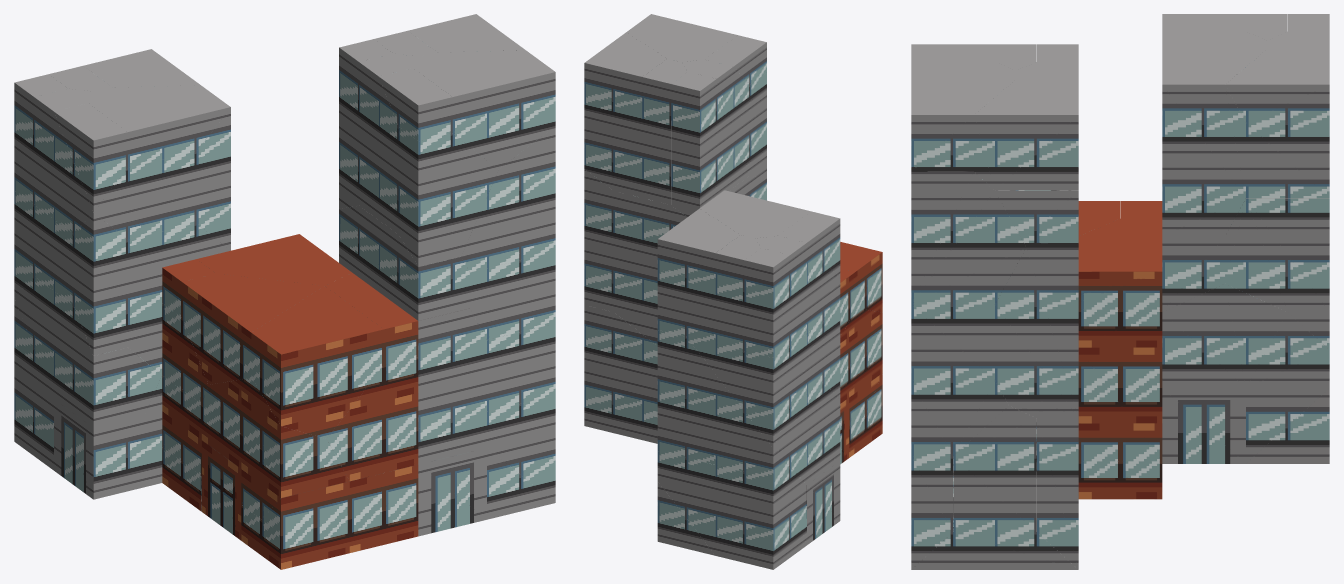
Rendered from Building_Corner 1.fbx.
The picture shows the model from 3 angles, left to right: view 1: azimuth 30°, elevation 25°; view 2: azimuth 150°, elevation 25°; view 3: azimuth 270°, elevation 25°; orthographic projection. The views are drawn at different scales.
Visible parts, largest first — view 1: BuildingCorner.002_cell.009, BuildingCorner_cell.010, BuildingCorner.002_cell.010, BuildingCorner.001_cell.011, BuildingCorner_cell.017, BuildingCorner.002_cell.015, BuildingCorner_cell.009, BuildingCorner_cell.015, BuildingCorner.Door11, BuildingCorner.002_cell.019, BuildingCorner.001_cell.012, BuildingCorner_cell.012 (+33 smaller); view 2: BuildingCorner_cell.003, BuildingCorner_cell.004, BuildingCorner.001_cell, BuildingCorner_cell.008, BuildingCorner.001_cell.014, BuildingCorner.001_cell.017, BuildingCorner.001_cell.009, BuildingCorner_cell.005, BuildingCorner.001_cell.010, BuildingCorner.001_cell.011, BuildingCorner_cell.011, BuildingCorner.001_cell.002 (+22 smaller); view 3: BuildingCorner.001_cell.016, BuildingCorner_cell.006, BuildingCorner_cell.009, BuildingCorner.001_cell.018, BuildingCorner_cell.002, BuildingCorner.001_cell.013, BuildingCorner.002_cell.014, BuildingCorner_cell.001, BuildingCorner_cell.010, BuildingCorner.002_cell.008, BuildingCorner.001_cell.003, BuildingCorner.001_cell.008 (+22 smaller).
Boxes of the visible parts, x1,y1,x2,y2 form: BuildingCorner.002_cell.009: (251,286,383,438); BuildingCorner_cell.010: (413,50,555,169); BuildingCorner.002_cell.010: (202,377,349,519); BuildingCorner.001_cell.011: (14,277,161,427); BuildingCorner_cell.017: (398,127,497,266); BuildingCorner.002_cell.015: (182,273,323,384); BuildingCorner_cell.009: (461,126,555,272); BuildingCorner_cell.015: (339,205,469,320); BuildingCorner.Door11: (54,399,162,499); BuildingCorner.002_cell.019: (327,357,418,481); BuildingCorner.001_cell.012: (88,85,230,167); BuildingCorner_cell.012: (418,308,486,428); BuildingCorner_cell.003: (584,58,687,204); BuildingCorner_cell.004: (584,305,657,443); BuildingCorner.001_cell: (657,374,772,471); BuildingCorner_cell.008: (613,191,686,345); BuildingCorner.001_cell.014: (686,235,760,373); BuildingCorner.001_cell.017: (657,451,744,562); BuildingCorner.001_cell.009: (744,449,806,569); BuildingCorner_cell.005: (671,72,716,217); BuildingCorner.001_cell.010: (744,248,789,357); BuildingCorner.001_cell.011: (773,382,840,484); BuildingCorner_cell.011: (682,59,750,195); BuildingCorner.001_cell.002: (715,346,789,448); BuildingCorner.001_cell.016: (1162,284,1329,463); BuildingCorner_cell.006: (995,247,1078,418); BuildingCorner_cell.009: (911,172,1026,304); BuildingCorner.001_cell.018: (1162,84,1245,236); BuildingCorner_cell.002: (974,79,1078,190); BuildingCorner.001_cell.013: (1225,198,1329,312); BuildingCorner.002_cell.014: (1078,347,1162,461); BuildingCorner_cell.001: (953,406,1036,531); BuildingCorner_cell.010: (911,62,1015,171); BuildingCorner.002_cell.008: (1078,218,1162,309); BuildingCorner.001_cell.003: (1225,49,1329,122); BuildingCorner.001_cell.008: (1246,122,1329,198).
Size of the model in its own units: 1500 by 1800 by 1500.
